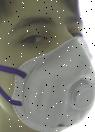with_mask: (2, 1, 95, 132)
